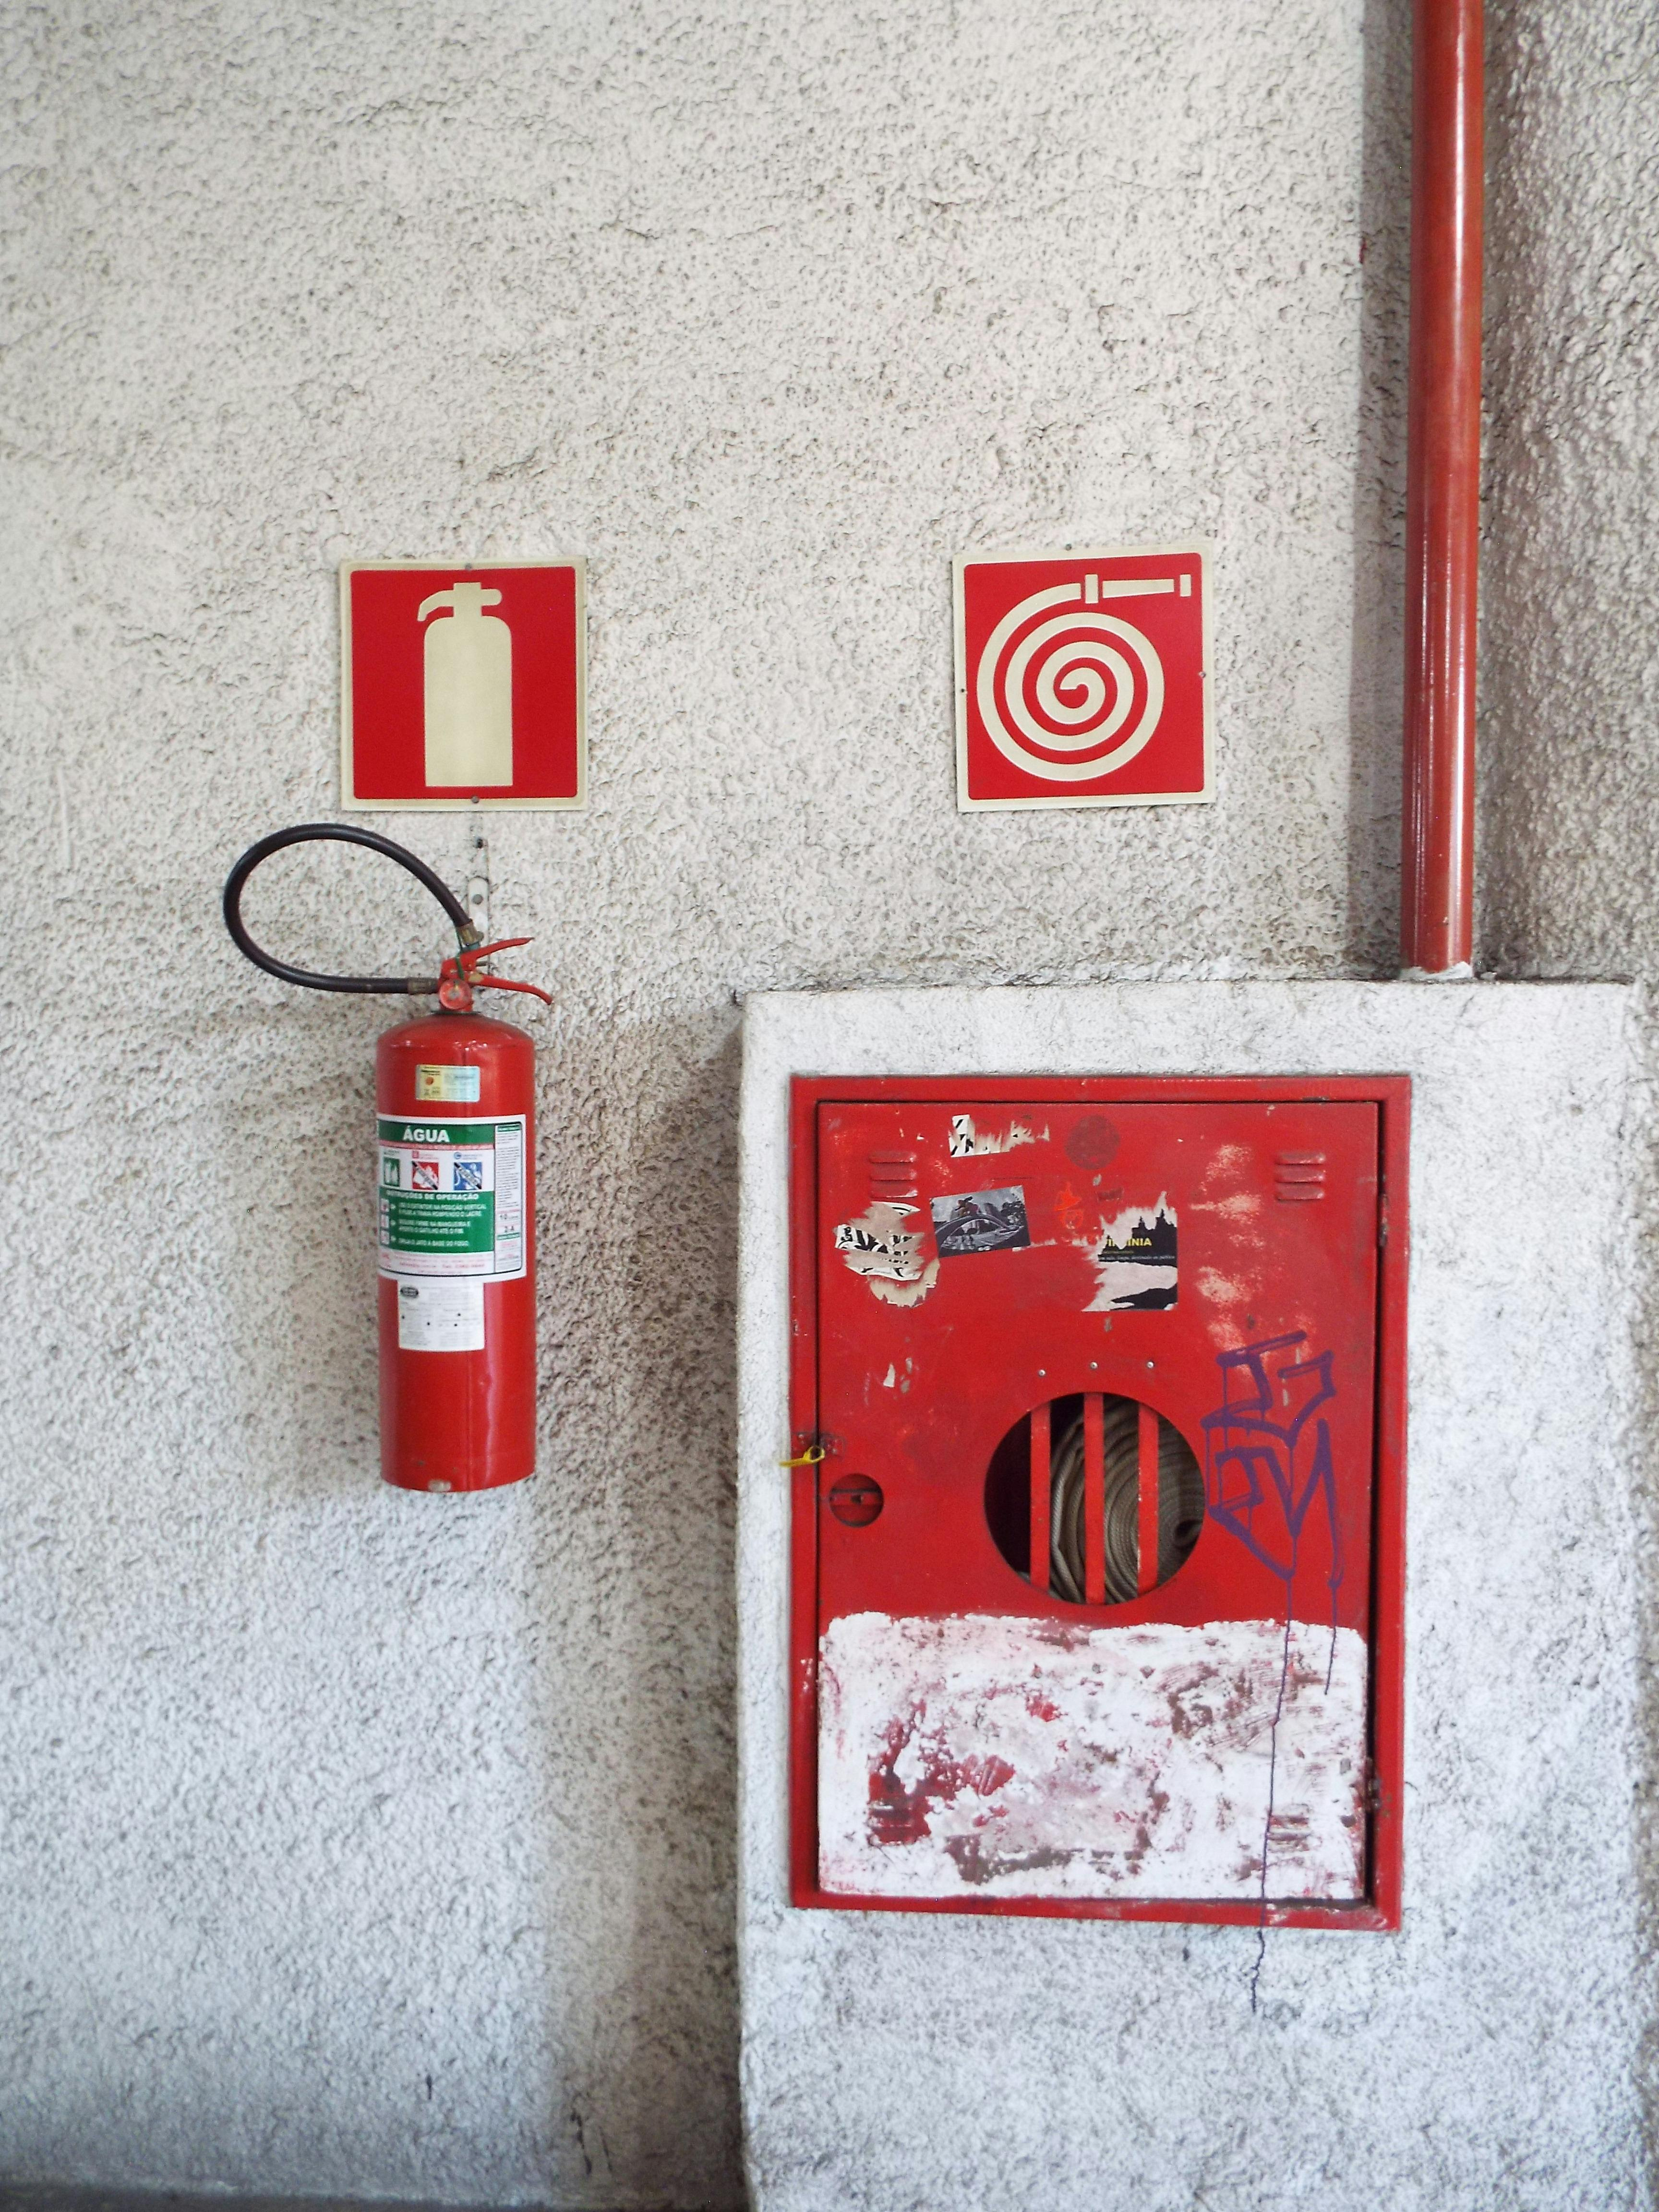extintor: (359, 927, 558, 1498)
